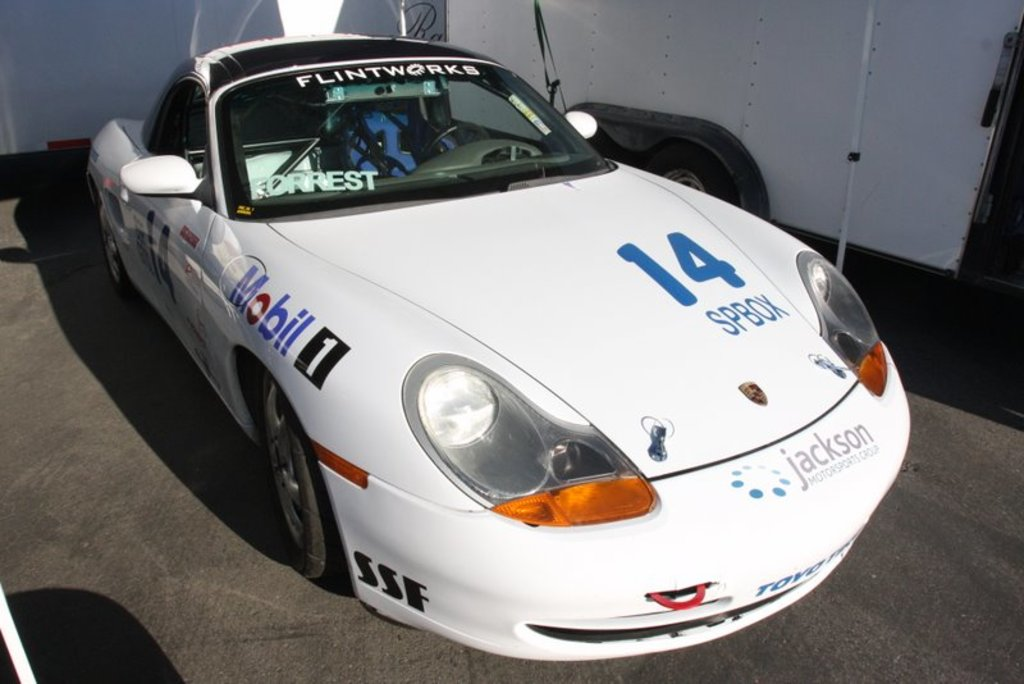Car: (80, 26, 912, 666)
